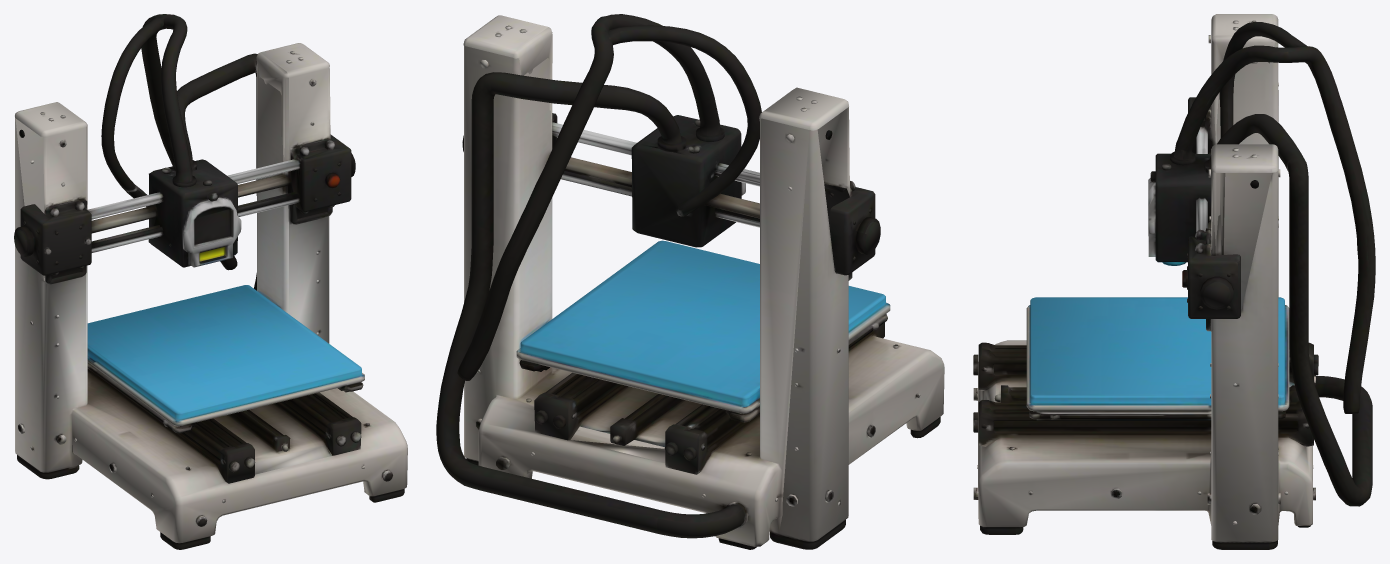
The model's file is 3d_printer_d5927986_v4.glb.
The picture shows the model from 3 angles, left to right: view 1: azimuth 30°, elevation 25°; view 2: azimuth 150°, elevation 25°; view 3: azimuth 270°, elevation 25°; orthographic projection. The views are drawn at different scales.
Parts seen in each view (by area): view 1: material; view 2: material; view 3: material.
Boxes of the visible parts, <box> form: material: <box>14,14,407,549</box>; material: <box>436,14,944,549</box>; material: <box>973,14,1375,549</box>.
Size of the model in its own units: 1.65 by 1.9 by 1.58.
Materials: 1 (1 with a texture image).
